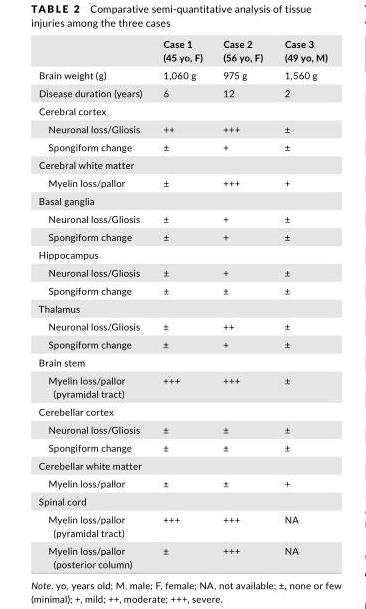table: (37, 37, 326, 569)
table column: (37, 37, 151, 569), (151, 37, 212, 569), (212, 37, 272, 569), (272, 37, 326, 569)
table column header: (37, 37, 326, 65)
table projected row header: (37, 101, 326, 119), (37, 155, 326, 173), (37, 191, 326, 209), (37, 245, 326, 263), (37, 298, 326, 316), (37, 352, 326, 370), (37, 402, 326, 420), (37, 455, 326, 473), (37, 491, 326, 509)
table row: (37, 370, 326, 402), (37, 509, 326, 541), (37, 37, 326, 65), (37, 541, 326, 569), (37, 65, 326, 83), (37, 83, 326, 101), (37, 101, 326, 119), (37, 119, 326, 137), (37, 137, 326, 155), (37, 155, 326, 173), (37, 173, 326, 191), (37, 191, 326, 209), (37, 209, 326, 227), (37, 227, 326, 245), (37, 245, 326, 263), (37, 263, 326, 281), (37, 298, 326, 316), (37, 316, 326, 334), (37, 334, 326, 352), (37, 352, 326, 370), (37, 402, 326, 420), (37, 420, 326, 438), (37, 455, 326, 473), (37, 473, 326, 491), (37, 491, 326, 509), (37, 281, 326, 298), (37, 438, 326, 455)
